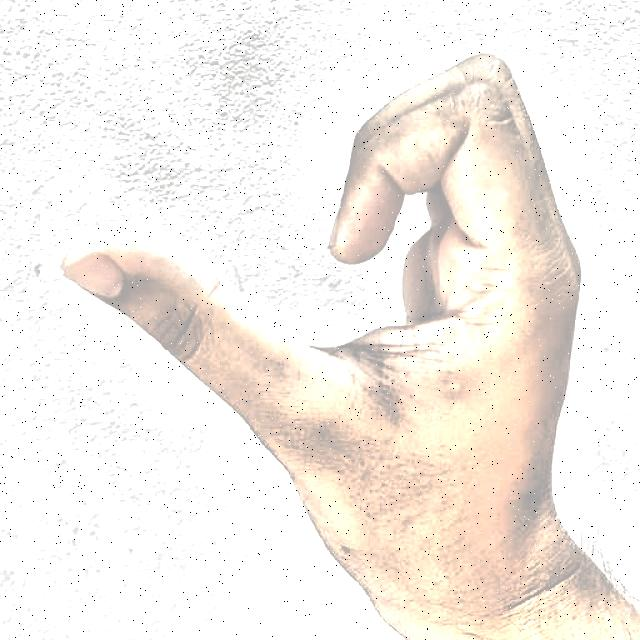Kha: (42, 24, 602, 619)
